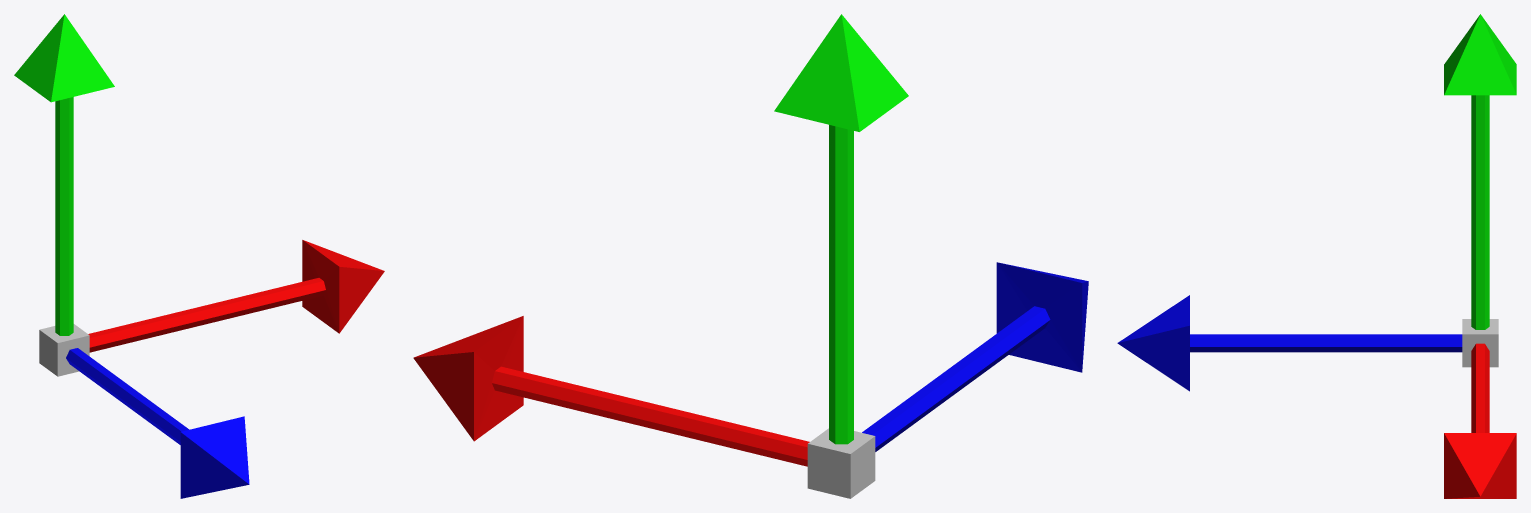
File: axis.obj
3 renders of one model, left to right at view 1: azimuth 30°, elevation 25°; view 2: azimuth 150°, elevation 25°; view 3: azimuth 270°, elevation 25°, orthographic. The views are drawn at different scales.
Parts seen in each view (by area): view 1: Axis-X.001_Cylinder.002, Axis-X_Cylinder.001, Axis-Z_Cylinder, Cube; view 2: Axis-X.001_Cylinder.002, Axis-X_Cylinder.001, Axis-Z_Cylinder, Cube; view 3: Axis-Z_Cylinder, Axis-X.001_Cylinder.002, Axis-X_Cylinder.001, Cube.
Boxes of the visible parts, left/top/right/bottom form: Axis-X.001_Cylinder.002: left=14, top=14, right=114, bottom=335; Axis-X_Cylinder.001: left=88, top=240, right=384, bottom=352; Axis-Z_Cylinder: left=66, top=348, right=249, bottom=498; Cube: left=39, top=324, right=89, bottom=376; Axis-X.001_Cylinder.002: left=774, top=14, right=908, bottom=444; Axis-X_Cylinder.001: left=413, top=316, right=809, bottom=466; Axis-Z_Cylinder: left=862, top=262, right=1088, bottom=451; Cube: left=807, top=428, right=875, bottom=498; Axis-Z_Cylinder: left=1117, top=295, right=1462, bottom=391; Axis-X.001_Cylinder.002: left=1444, top=14, right=1516, bottom=329; Axis-X_Cylinder.001: left=1444, top=343, right=1516, bottom=498; Cube: left=1462, top=319, right=1498, bottom=367.
Size of the model in its own units: 1.1 by 1.1 by 1.1.
